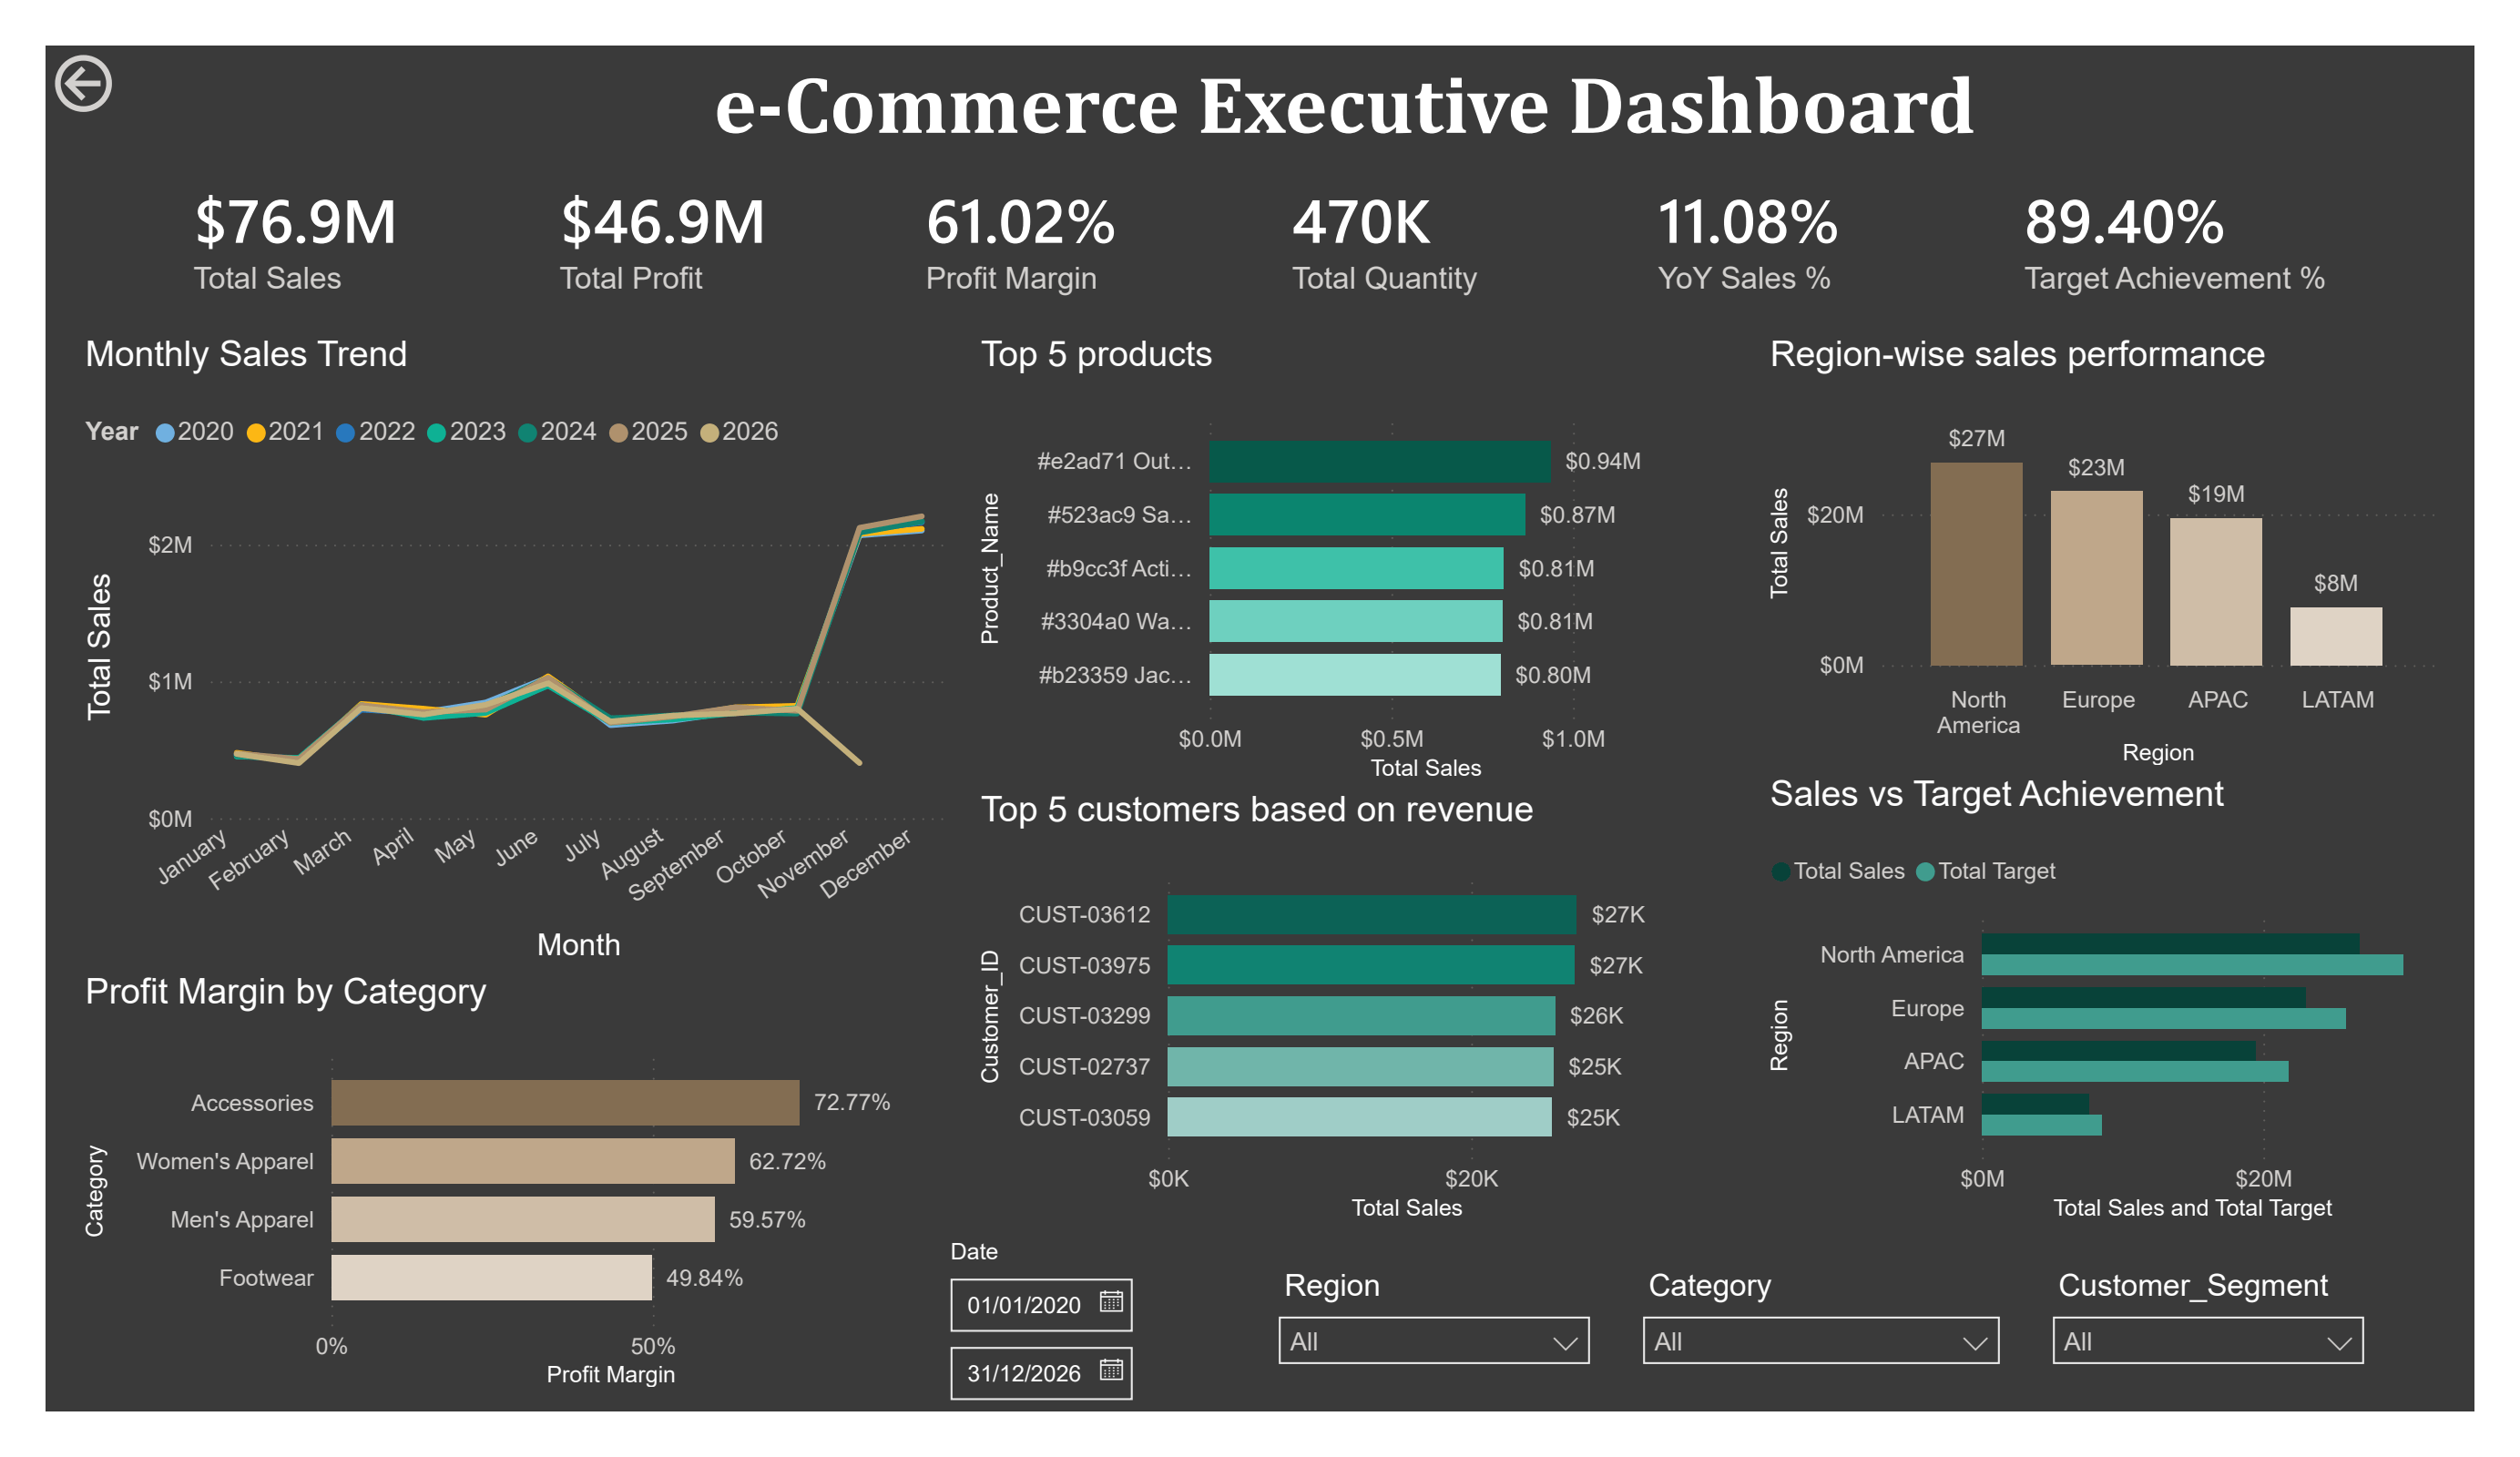

What the dashboard file says about the page in this screenshot:
{"tool":"powerbi","page":{"name":"Page 1. Executive Dashboard","canvas":[1280,720],"ordinal":0},"visuals":[{"type":"cardVisual","fields":{"Data":["_Measures.Total Sales","_Measures.Total Profit","_Measures.Profit Margin","_Measures.Total Quantity","_Measures.YoY Sales %","_Measures.Target Achievement %"]},"box":[48,48,1184,104],"z":0},{"type":"lineChart","title":"Monthly Sales Trend","fields":{"Category":["Date_Table.Month"],"Series":["Date_Table.Year"],"Y":["_Measures.Total Sales"]},"box":[16,152,464,336],"z":1000},{"type":"clusteredBarChart","title":"Top 5 products","fields":{"Category":["Dim_Product.Product_Name"],"Y":["_Measures.Total Sales"]},"box":[488,152,376,240],"z":2000},{"type":"slicer","fields":{"Values":["Date_Table.Date"]},"box":[464,624,136,96],"z":3000},{"type":"slicer","fields":{"Values":["Fact_Sales.Region"]},"box":[640,640,184,64],"z":4000},{"type":"slicer","fields":{"Values":["Dim_Product.Category"]},"box":[832,640,208,64],"z":5000},{"type":"slicer","fields":{"Values":["Dim_Customer.Customer_Segment"]},"box":[1048,640,184,64],"z":6000},{"type":"clusteredBarChart","title":"Top 5 customers based on revenue","fields":{"Category":["Dim_Customer.Customer_Name"],"Y":["_Measures.Total Sales"]},"box":[488,392,376,232],"z":7000},{"type":"clusteredColumnChart","title":"Region-wise sales performance","fields":{"Category":["Fact_Sales.Region"],"Y":["_Measures.Total Sales"]},"box":[904,152,360,232],"z":8000},{"type":"clusteredBarChart","title":"Sales vs Target Achievement","fields":{"Category":["Fact_Sales.Region"],"Y":["_Measures.Total Sales","_Measures.Total Target"]},"box":[904,384,360,240],"z":9000},{"type":"clusteredBarChart","title":"Profit Margin by Category ","fields":{"Category":["Dim_Product.Category"],"Y":["_Measures.Profit Margin"]},"box":[16,488,448,224],"z":10000},{"type":"textbox","box":[216,0,928,80],"z":11000},{"type":"actionButton","box":[0,0,100,40],"z":12000}]}

Visuals, with their boxes on the page's 1280x720 design canvas (x1, y1, x2, y2). These are canvas units, not pixel positions in the 2520x1457 screenshot, which may show the page scaled, cropped or inside an application window:
cardVisual - _Measures.Total Sales x _Measures.Total Profit: box(48, 48, 1232, 152)
"Monthly Sales Trend" lineChart: box(16, 152, 480, 488)
"Top 5 products" clusteredBarChart: box(488, 152, 864, 392)
slicer - Date_Table.Date: box(464, 624, 600, 720)
slicer - Fact_Sales.Region: box(640, 640, 824, 704)
slicer - Dim_Product.Category: box(832, 640, 1040, 704)
slicer - Dim_Customer.Customer_Segment: box(1048, 640, 1232, 704)
"Top 5 customers based on revenue" clusteredBarChart: box(488, 392, 864, 624)
"Region-wise sales performance" clusteredColumnChart: box(904, 152, 1264, 384)
"Sales vs Target Achievement" clusteredBarChart: box(904, 384, 1264, 624)
"Profit Margin by Category " clusteredBarChart: box(16, 488, 464, 712)
textbox: box(216, 0, 1144, 80)
actionButton: box(0, 0, 100, 40)
